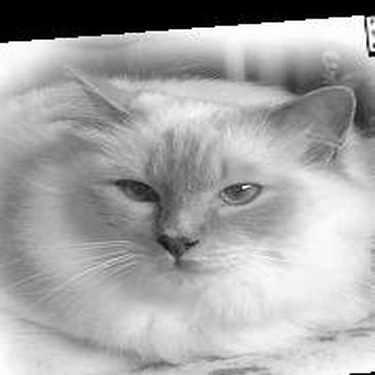cat: (2, 60, 369, 356)
